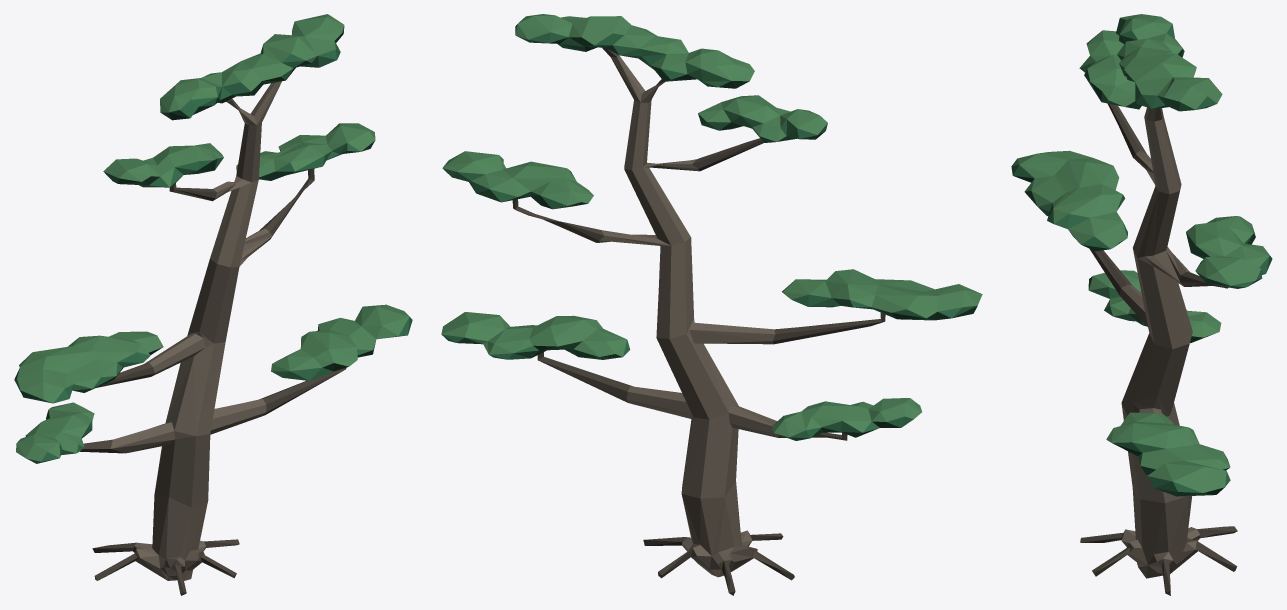
Rendered from ancient-pine-4101-lod2.glb.
3 views of the same model, side by side, from view 1: azimuth 30°, elevation 25°; view 2: azimuth 150°, elevation 25°; view 3: azimuth 270°, elevation 25° (orthographic). The views are drawn at different scales.
Parts seen in each view (by area): view 1: n12.006, n8.006, n9.006, n11.006, n10.006; view 2: n12.006, n8.006, n9.006, n11.006, n10.006; view 3: n12.006, n8.006, n11.006, n9.006, n10.006.
Part boxes in pixels (x1=…): n12.006: x1=16, y1=14, x2=409, y2=461; n8.006: x1=111, y1=81, x2=281, y2=580; n9.006: x1=80, y1=99, x2=346, y2=595; n11.006: x1=14, y1=23, x2=412, y2=461; n10.006: x1=15, y1=33, x2=404, y2=463; n12.006: x1=441, y1=14, x2=982, y2=437; n8.006: x1=597, y1=55, x2=778, y2=577; n9.006: x1=512, y1=47, x2=885, y2=595; n11.006: x1=442, y1=24, x2=976, y2=438; n10.006: x1=442, y1=36, x2=977, y2=440; n12.006: x1=1012, y1=14, x2=1269, y2=492; n8.006: x1=1119, y1=107, x2=1200, y2=578; n11.006: x1=1011, y1=18, x2=1272, y2=492; n9.006: x1=1080, y1=103, x2=1237, y2=595; n10.006: x1=1014, y1=30, x2=1260, y2=496.
Bounding box in the file's own units: 5.03 × 5.44 × 2.22.
